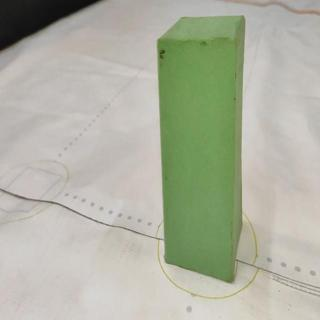greenbox: (156, 16, 245, 284)
